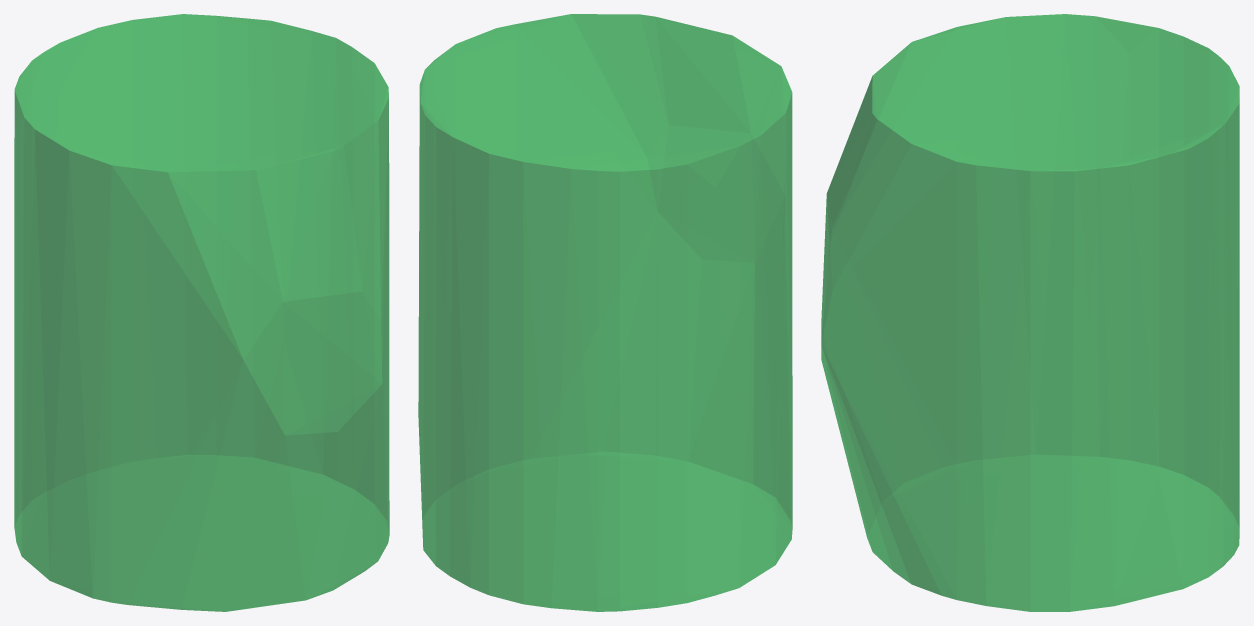
3 views of the same model, side by side, from view 1: azimuth 30°, elevation 25°; view 2: azimuth 150°, elevation 25°; view 3: azimuth 270°, elevation 25° (orthographic).
Parts seen in each view (by area): view 1: Shape_IndexedFaceSet.001_Shape_IndexedFaceSet.10748; view 2: Shape_IndexedFaceSet.001_Shape_IndexedFaceSet.10748; view 3: Shape_IndexedFaceSet.001_Shape_IndexedFaceSet.10748.
Part boxes in pixels (x1,y1,x2,y2): Shape_IndexedFaceSet.001_Shape_IndexedFaceSet.10748: [14, 14, 389, 611]; Shape_IndexedFaceSet.001_Shape_IndexedFaceSet.10748: [418, 14, 792, 611]; Shape_IndexedFaceSet.001_Shape_IndexedFaceSet.10748: [821, 14, 1239, 611].
Bounding box in the file's own units: 0.2836 × 0.3721 × 0.3189.
